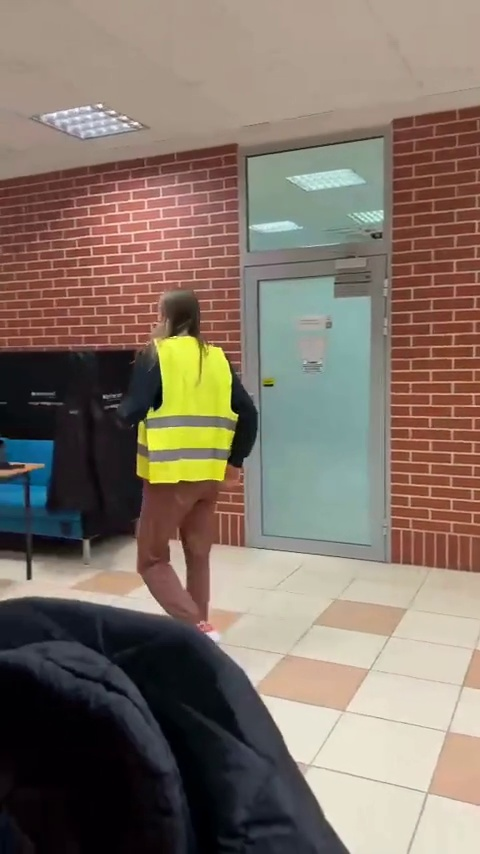vest: (125, 286, 259, 647)
